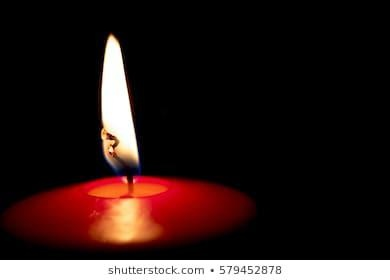fire: (98, 30, 137, 166)
